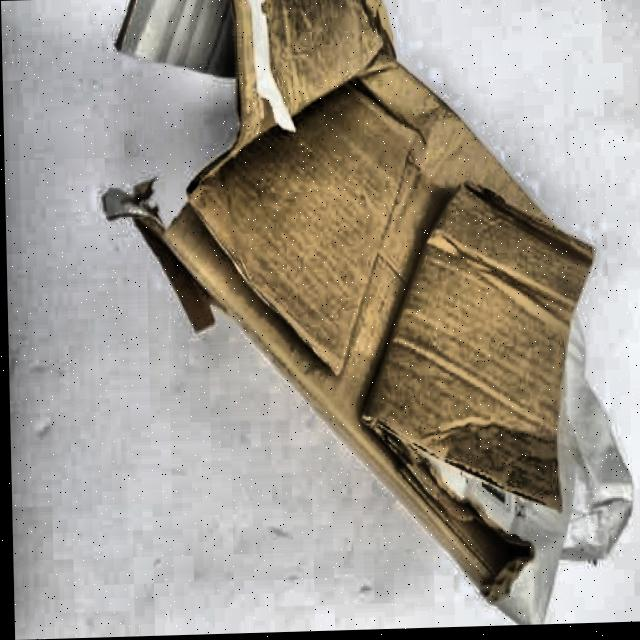cardboard: (102, 0, 612, 637)
